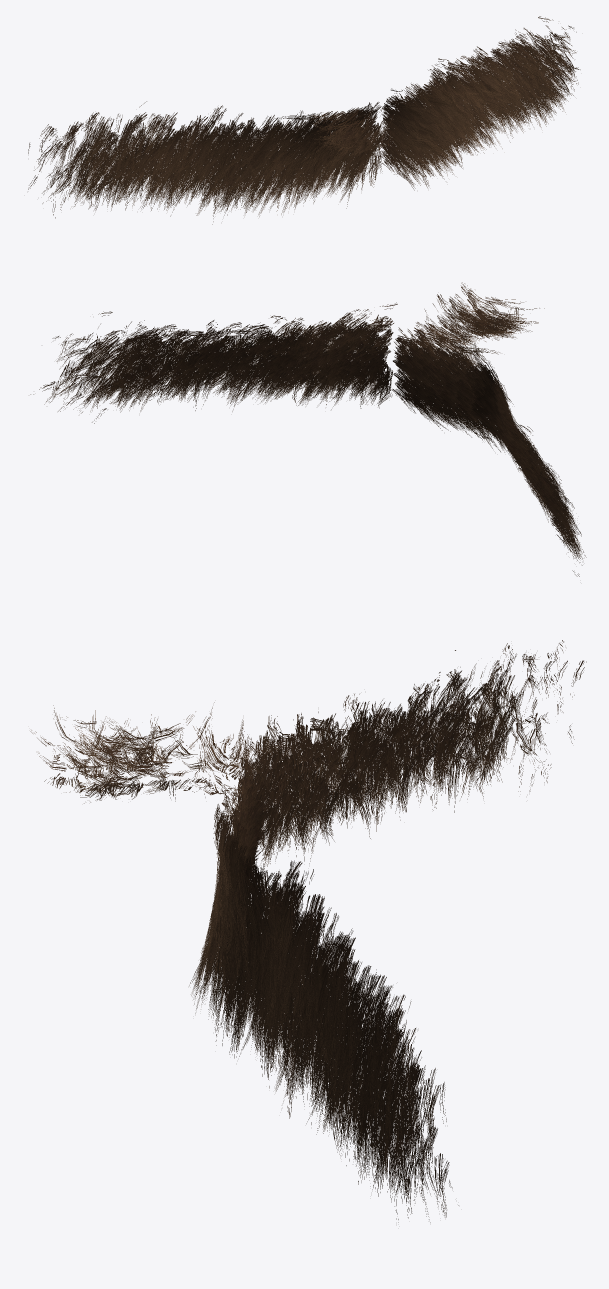
File: moustache.glb
3 renders of one model, top to bottom at view 1: azimuth 30°, elevation 25°; view 2: azimuth 150°, elevation 25°; view 3: azimuth 270°, elevation 25°, orthographic. The views are drawn at different scales.
Parts seen in each view (by area): view 1: moustache; view 2: moustache; view 3: moustache.
Boxes of the visible parts, <box> form: moustache: <box>28,16,580,224</box>; moustache: <box>30,282,586,576</box>; moustache: <box>30,640,586,1222</box>.
Size of the model in its own units: 0.4424 by 0.1158 by 0.2134.
1 material, 1 textured.
